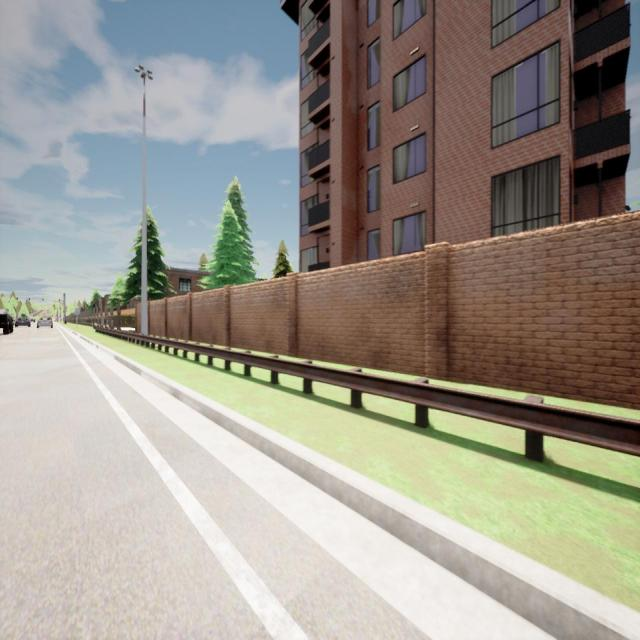Traffic_Signs: (75, 308, 80, 315)
Vehicle: (0, 309, 13, 335), (37, 316, 53, 328), (15, 316, 31, 326), (30, 317, 36, 323)
traffic_light: (42, 298, 44, 302), (63, 310, 65, 314), (29, 297, 30, 301), (17, 297, 18, 300), (59, 300, 60, 302)
